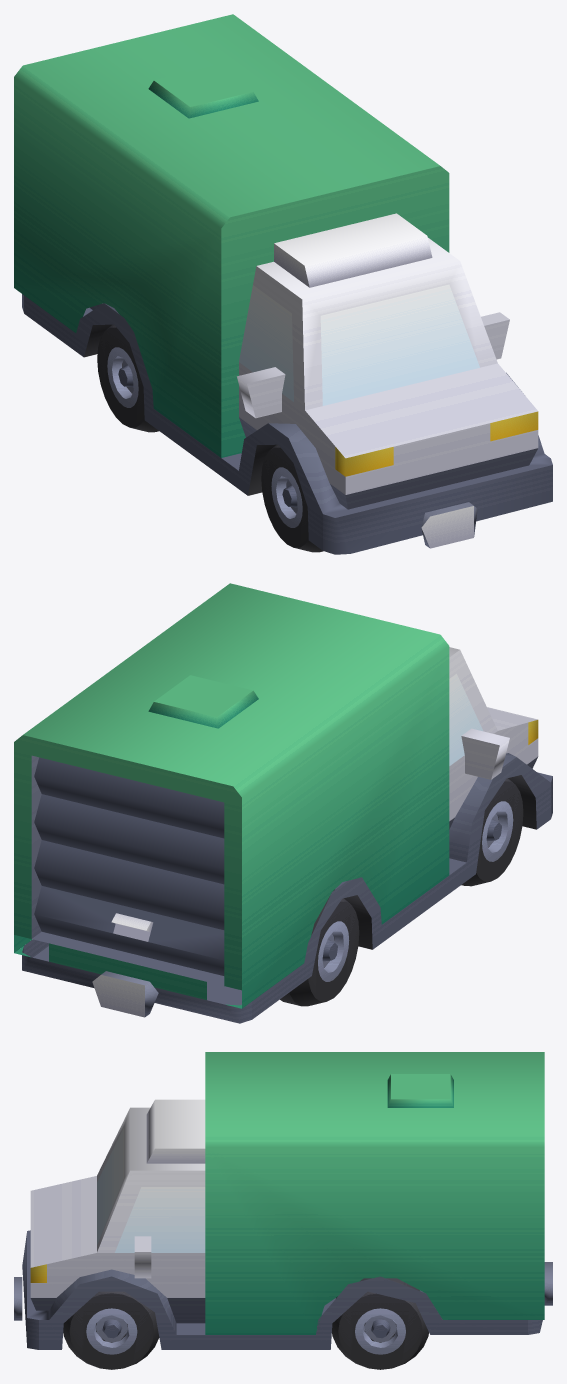
File: delivery.lod1.glb
The picture shows the model from 3 angles, top to bottom: view 1: azimuth 30°, elevation 25°; view 2: azimuth 150°, elevation 25°; view 3: azimuth 270°, elevation 25°; orthographic projection. The views are drawn at different scales.
Visible parts, largest first — view 1: body, wheel-front-right, wheel-back-right; view 2: body, door, wheel-back-right, wheel-front-right; view 3: body, wheel-back-left, wheel-front-left.
Boxes of the visible parts, x1=… form: body: x1=14, y1=14, x2=552, y2=554; wheel-front-right: x1=261, y1=444, x2=323, y2=552; wheel-back-right: x1=97, y1=324, x2=158, y2=432; body: x1=14, y1=583, x2=552, y2=1023; door: x1=34, y1=757, x2=224, y2=975; wheel-back-right: x1=280, y1=898, x2=359, y2=1006; wheel-front-right: x1=461, y1=778, x2=523, y2=886; body: x1=14, y1=1052, x2=552, y2=1349; wheel-back-left: x1=332, y1=1278, x2=428, y2=1369; wheel-front-left: x1=63, y1=1291, x2=159, y2=1369.
Bounding box in the file's own units: 1.5 × 1.65 × 3.25.
Materials: 1 (1 with a texture image).
